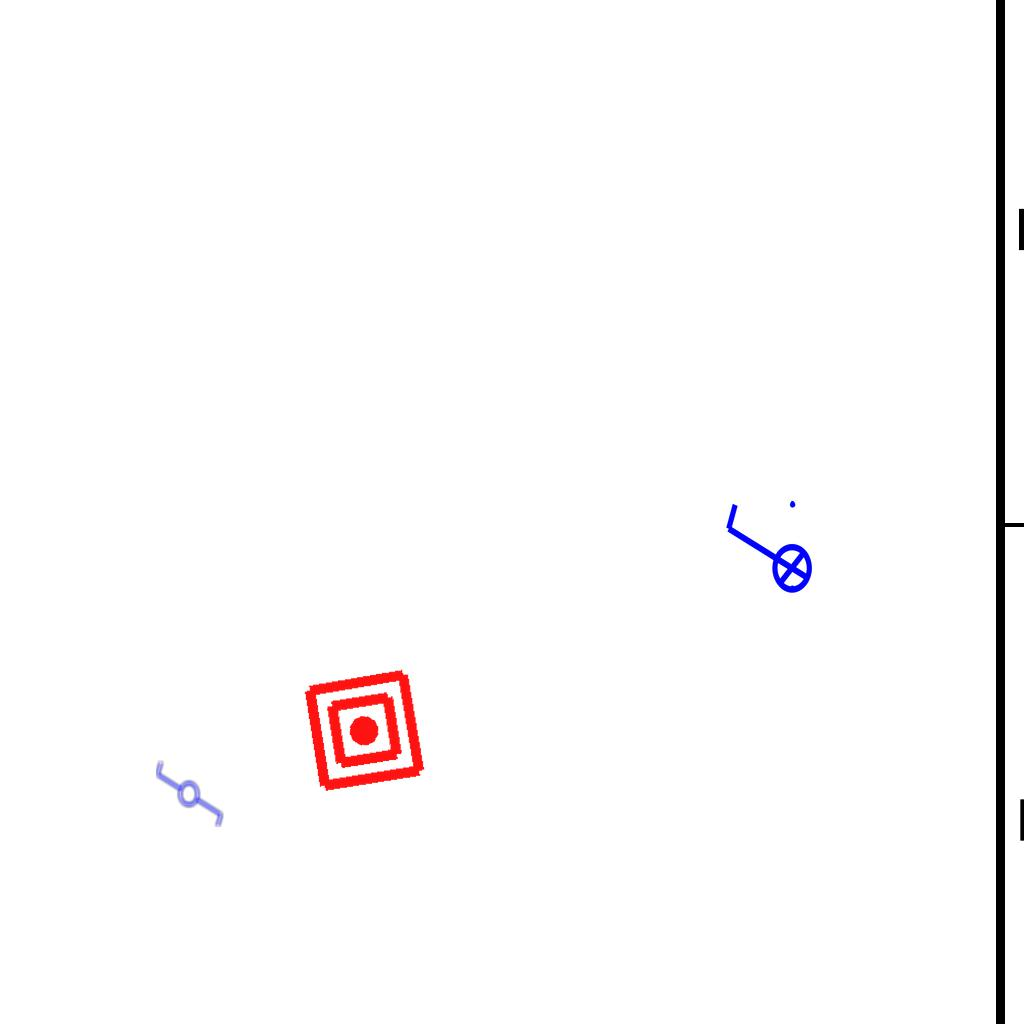Ausschalter_beleuchtet: (718, 495, 814, 607)
NAM-Nichtautomatischer_Melder: (299, 665, 430, 796)
Wechselschalter: (154, 751, 226, 829)
